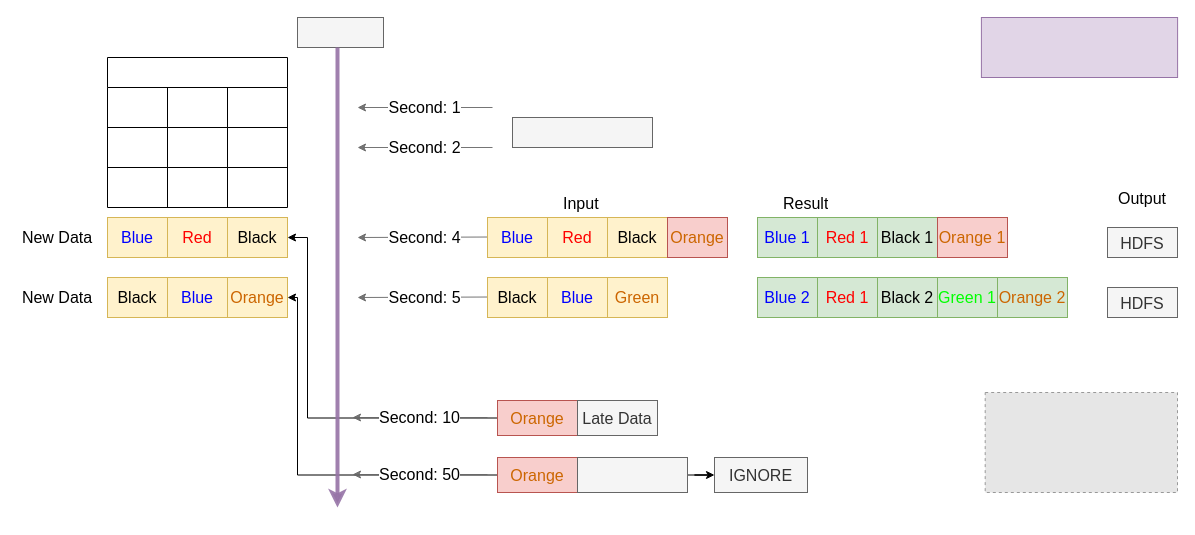
This 1195x535 diagram has some shape labels left out. Grey dashed boxes stand in for pictures. The centre of each missing label's shape, as x and y in pixels:
"Batch Process" belongs at (x=582, y=132).
"Structured Streaming Real-time analytics" belongs at (x=1079, y=47).
"Timeline" belongs at (x=340, y=32).
"Too Late Data" belongs at (x=632, y=474).
"Unbounded Table" belongs at (x=197, y=132).
